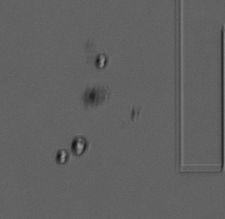Dead Cell: (70, 136, 89, 157), (54, 147, 70, 165), (83, 89, 99, 106), (93, 52, 107, 68)
